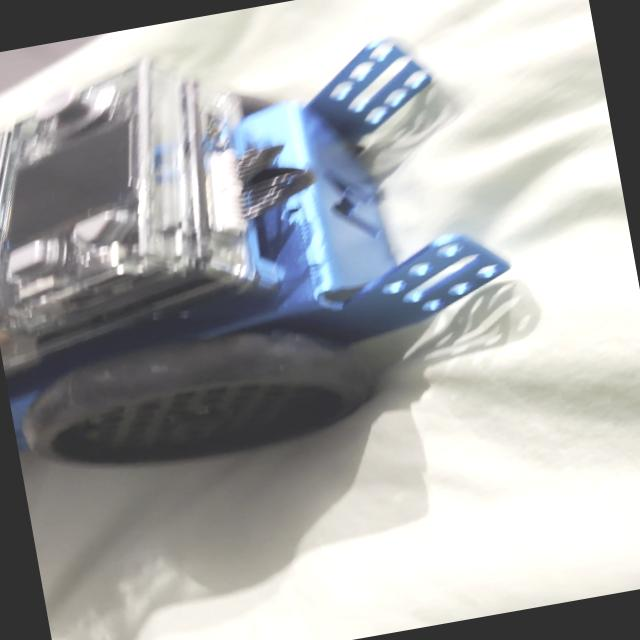mbot-detection: (0, 0, 549, 515)
